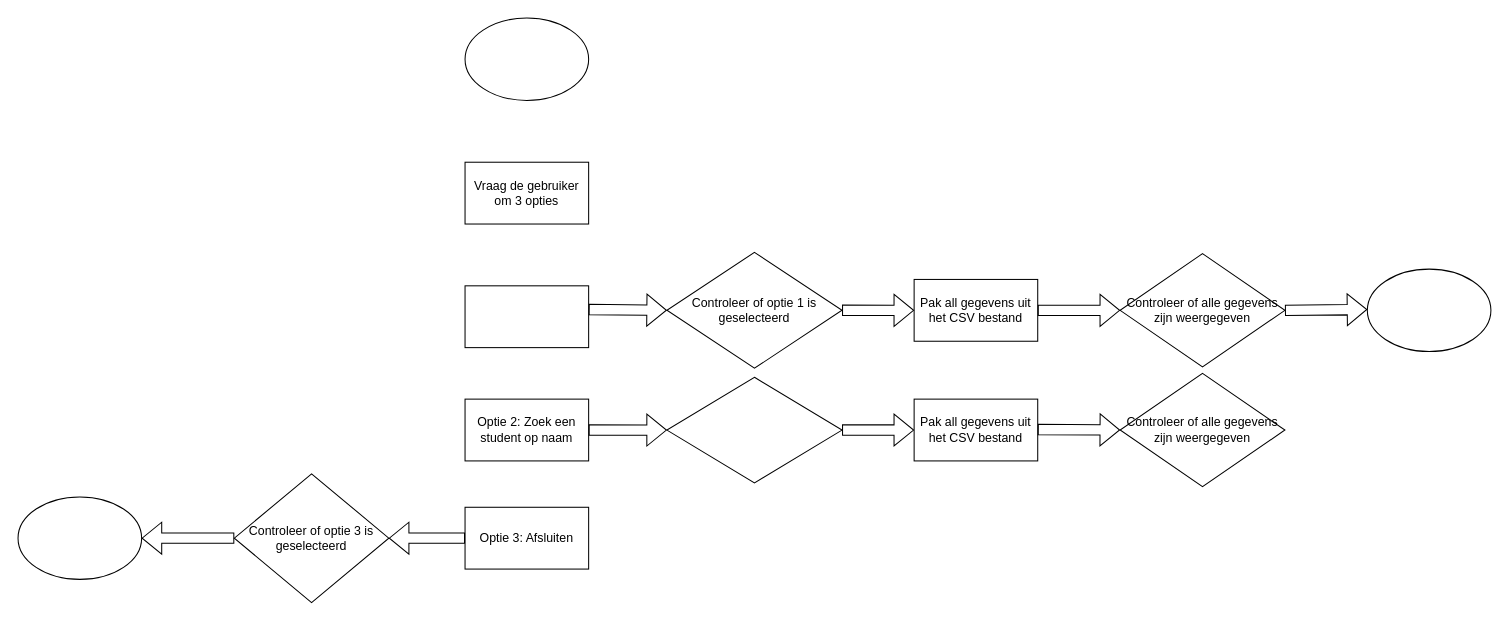
Some shapes in this 1509 by 621 pixel diagram are drawn without their labels. The centre of each missing label's shape, as x and y in pixels:
"Controleer of optie 2 is geselecteerd" goes at pixel 754 429.
"Optie 1: Toon alle studentgegevens" goes at pixel 526 316.
"Sluit af" goes at pixel 79 537.
"Start inlezen" goes at pixel 526 58.
"Toon all gegevens" goes at pixel 1428 310.
